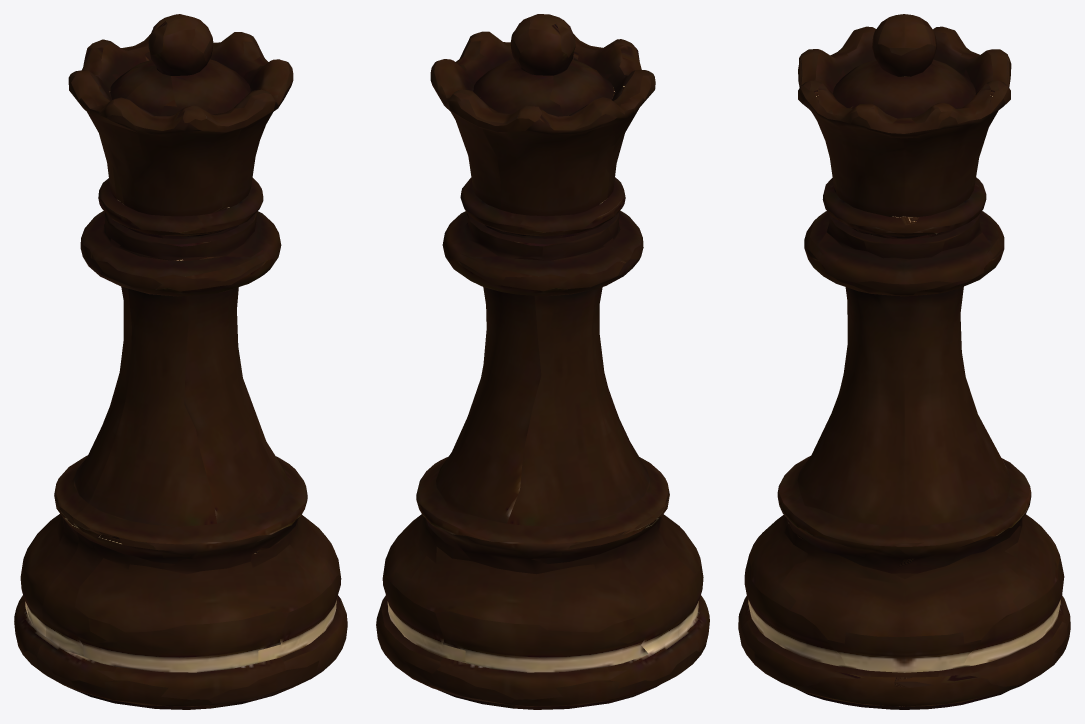
The picture shows the model from 3 angles, left to right: view 1: azimuth 30°, elevation 25°; view 2: azimuth 150°, elevation 25°; view 3: azimuth 270°, elevation 25°; orthographic projection.
Visible parts, largest first — view 1: geometry_0; view 2: geometry_0; view 3: geometry_0.
Boxes of the visible parts, bbox=[...] form: geometry_0: bbox=[14, 14, 347, 709]; geometry_0: bbox=[376, 14, 709, 709]; geometry_0: bbox=[738, 14, 1070, 709].
Bounding box in the file's own units: 0.48 × 1 × 0.4801.
Materials: 1 (1 with a texture image).
